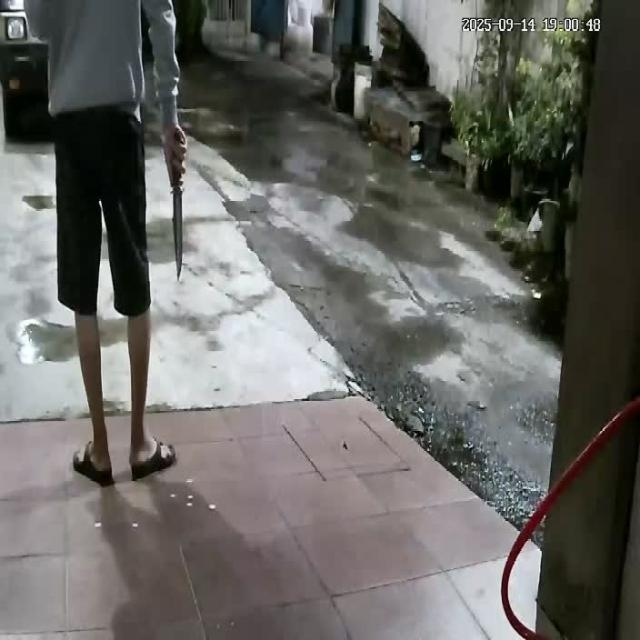senjata_tajam: (168, 180, 186, 280)
